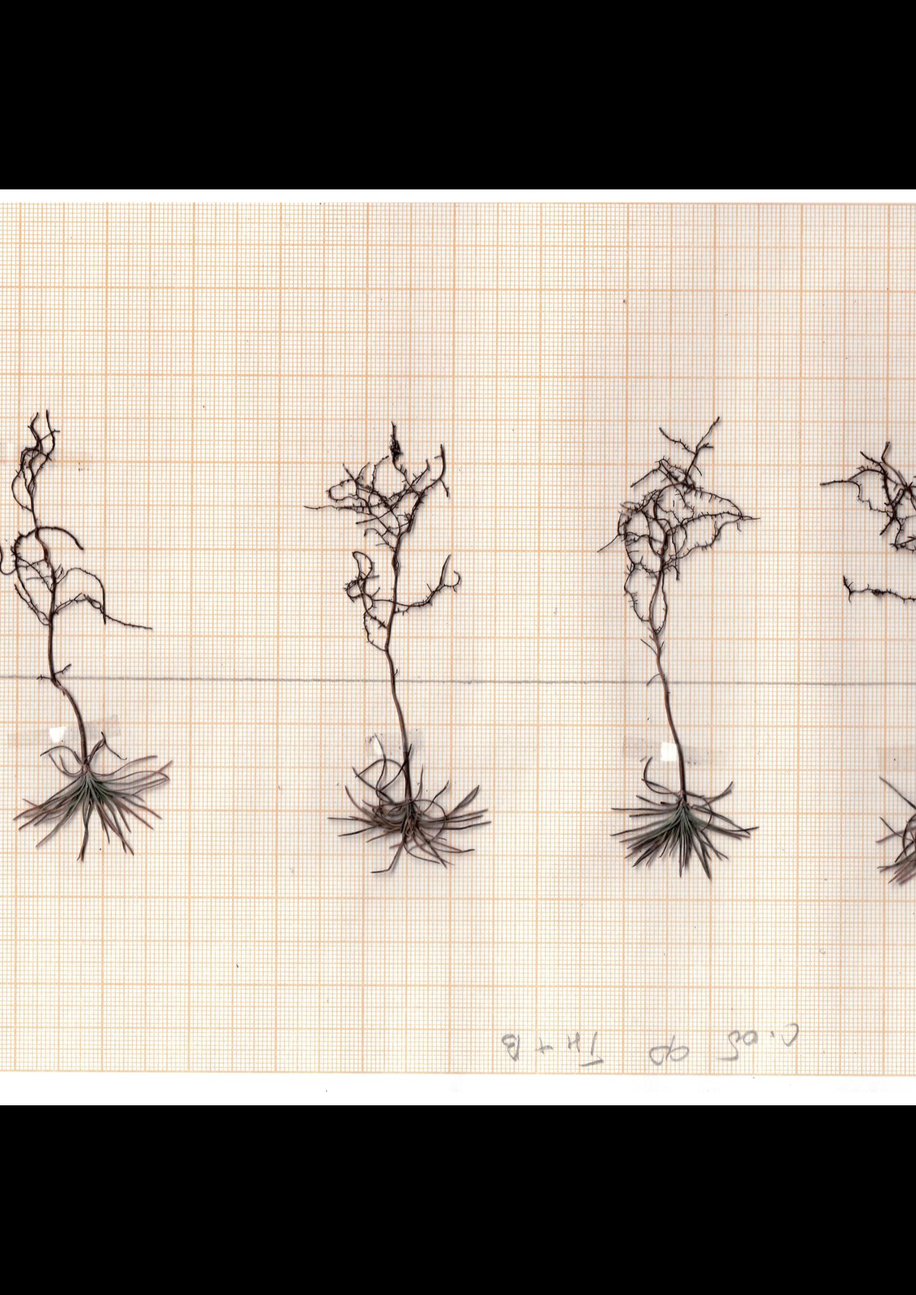Seeding: (300, 418, 496, 879), (592, 403, 768, 887), (0, 402, 180, 865), (816, 305, 916, 913)
